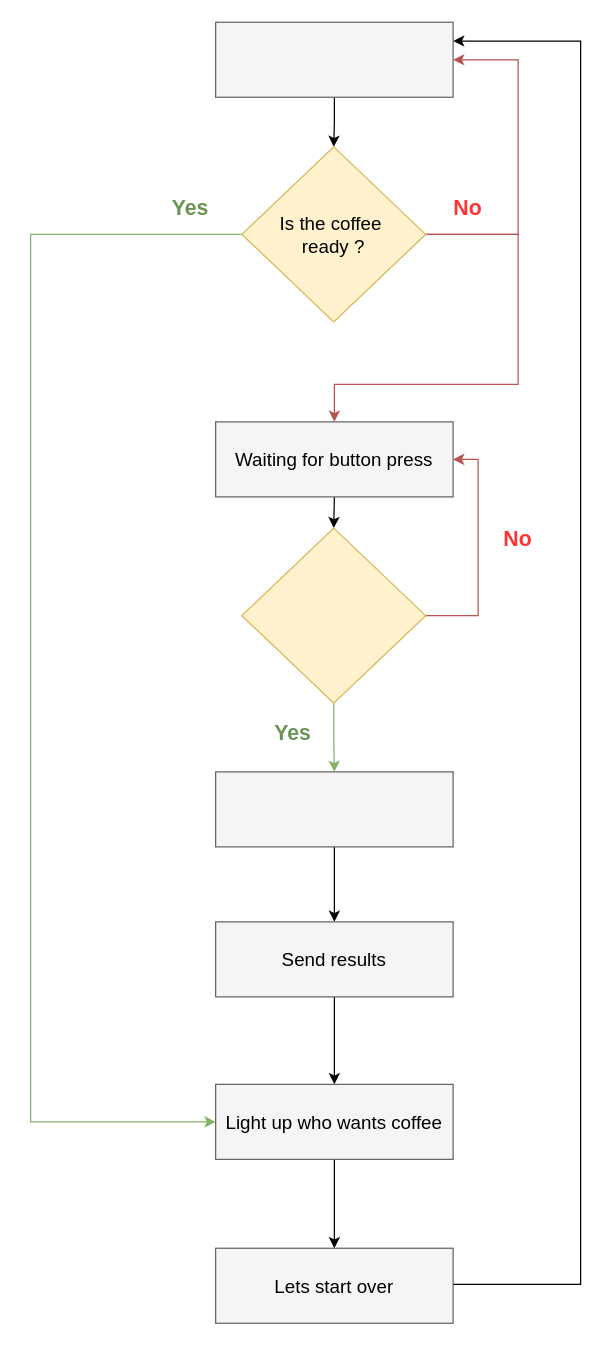
The diagram is 613 pixels wide and 1345 high, and some of its shapes have lost their labels. Each missing label, with the centre of its shape:
"Get random user" goes at pixel 333 809.
"Is button pressed ?" goes at pixel 333 615.
"Listen to the coffeemachine" goes at pixel 333 59.
